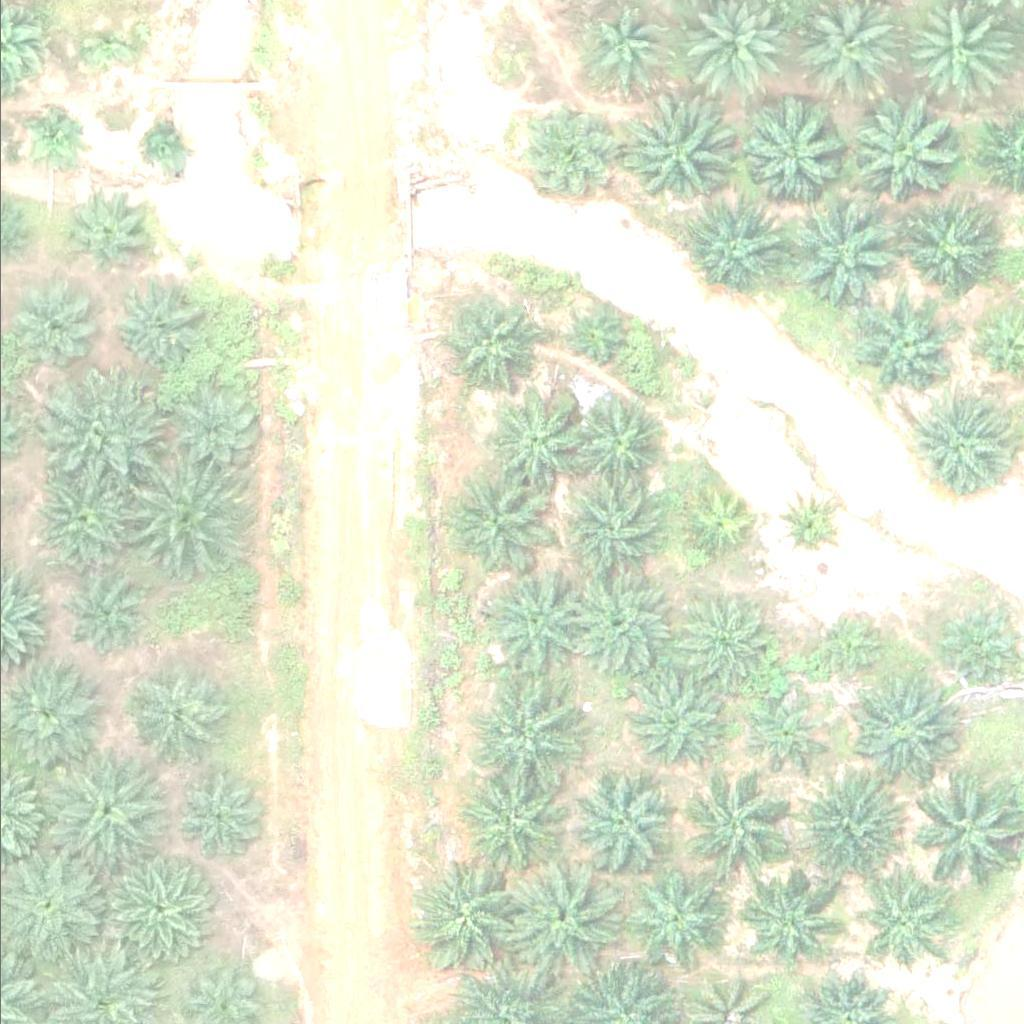Kelapa_Sawit: (99, 848, 212, 961), (405, 862, 518, 975), (842, 669, 955, 782), (564, 567, 677, 680), (476, 564, 589, 677), (437, 466, 550, 579), (791, 195, 904, 308), (847, 96, 960, 209), (736, 100, 849, 213), (683, 774, 797, 886), (466, 672, 580, 784), (50, 760, 163, 872), (121, 462, 234, 574), (42, 372, 155, 484), (505, 861, 618, 973), (448, 762, 561, 874), (787, 765, 900, 877), (624, 99, 737, 211), (168, 766, 269, 866), (35, 468, 136, 568), (168, 374, 269, 474), (733, 867, 834, 967), (571, 769, 672, 869), (620, 669, 721, 769), (554, 477, 655, 577), (563, 392, 664, 492), (682, 194, 783, 294), (437, 294, 538, 394), (509, 102, 610, 202), (119, 665, 219, 765), (630, 867, 730, 967), (906, 394, 1006, 494), (673, 592, 773, 692), (484, 387, 584, 487), (853, 300, 953, 400), (739, 692, 827, 780), (931, 597, 1019, 685), (898, 205, 986, 293), (109, 280, 198, 367), (57, 574, 145, 661), (11, 280, 99, 367), (63, 190, 151, 277), (850, 879, 938, 966), (577, 8, 665, 95), (813, 609, 888, 684), (675, 485, 750, 560), (551, 300, 626, 375), (774, 494, 837, 557), (31, 112, 82, 162), (142, 119, 192, 169), (79, 22, 129, 72)
